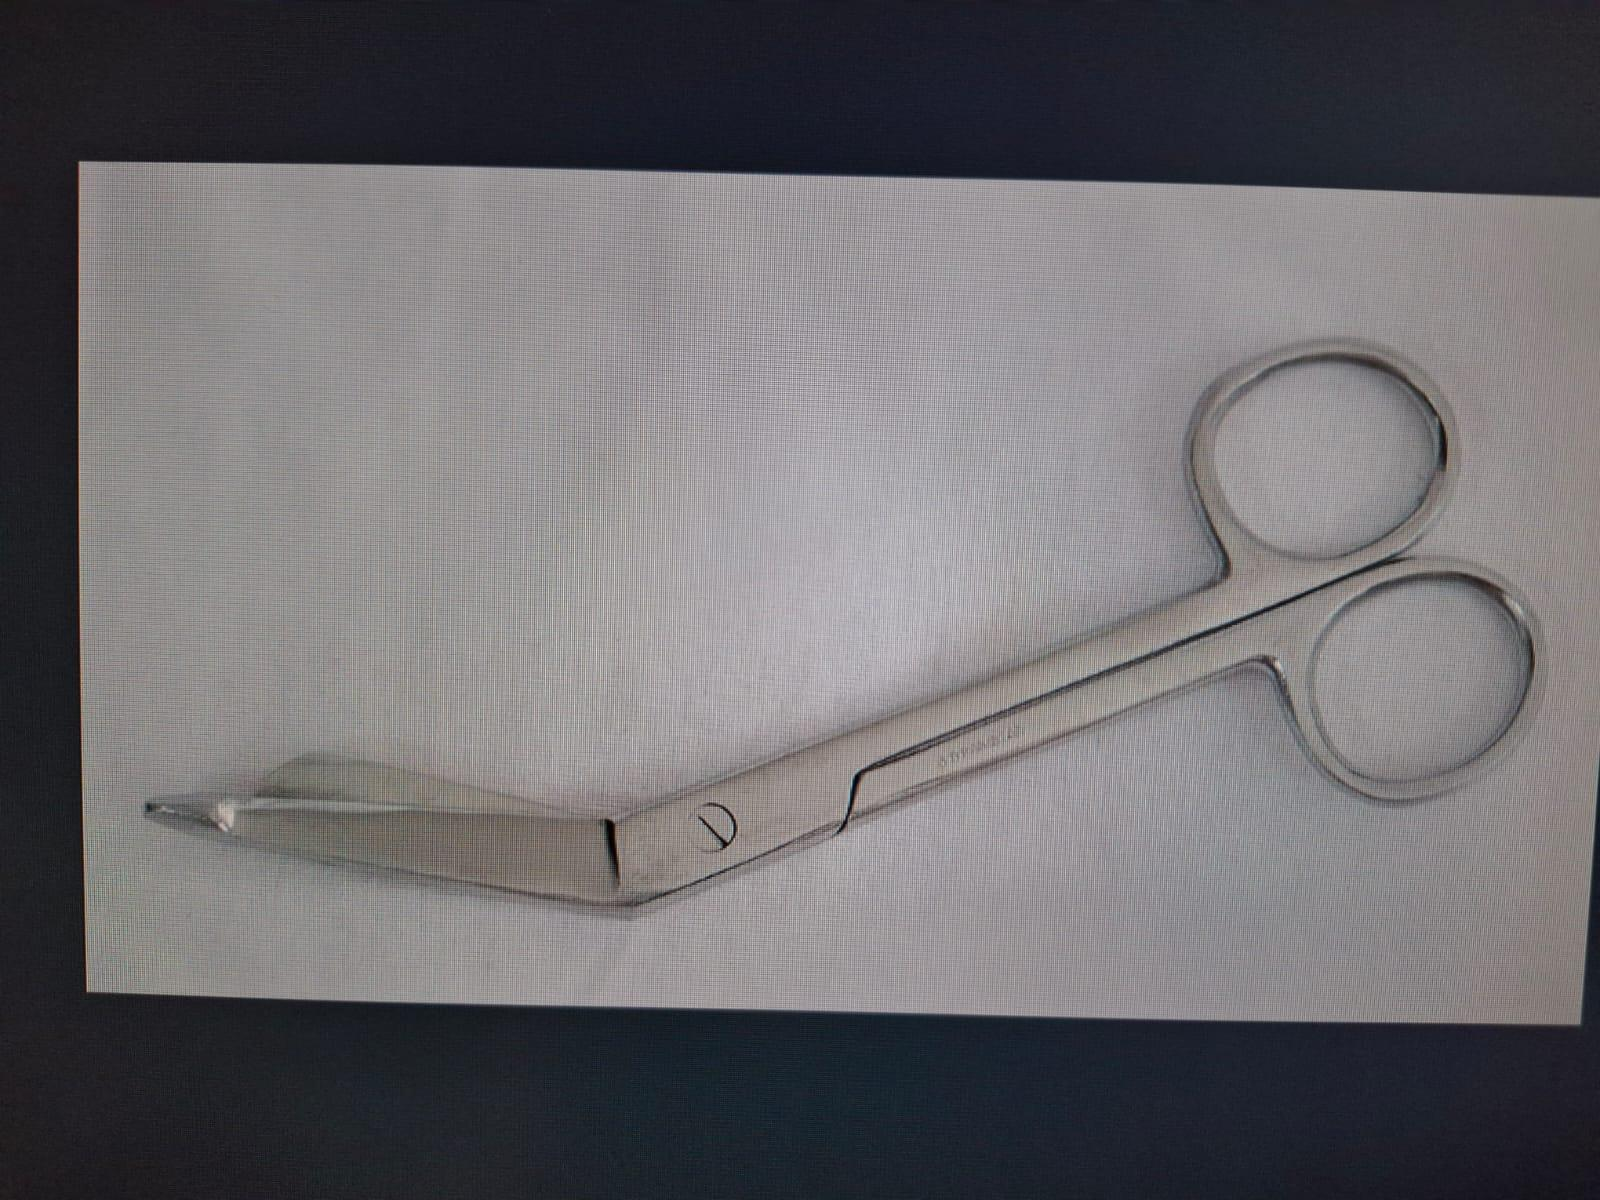Bandage Sciccors: (124, 328, 1550, 918)
